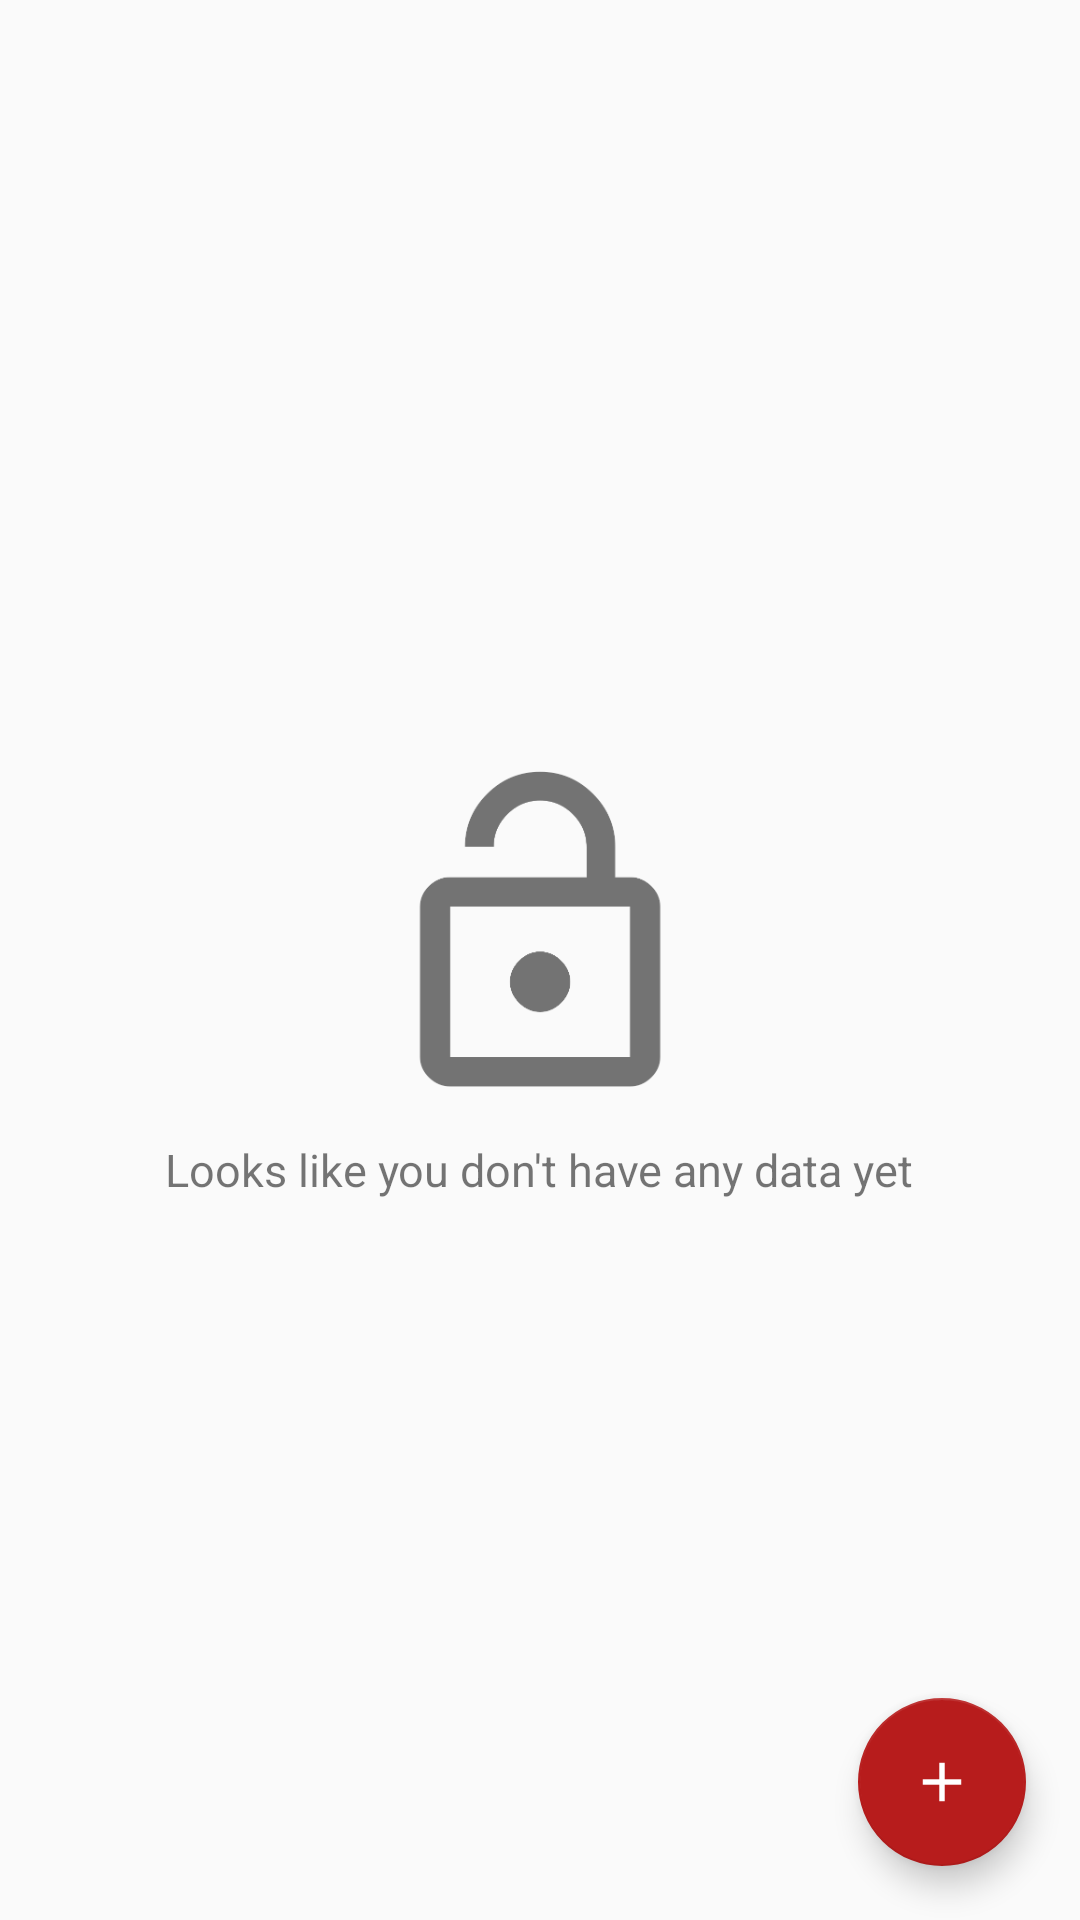

Locate icon controls on the screen. Image size 1080px x 1920px, boxes as (x1, y1, x2, y2).
add: (858, 1698, 1026, 1866)
